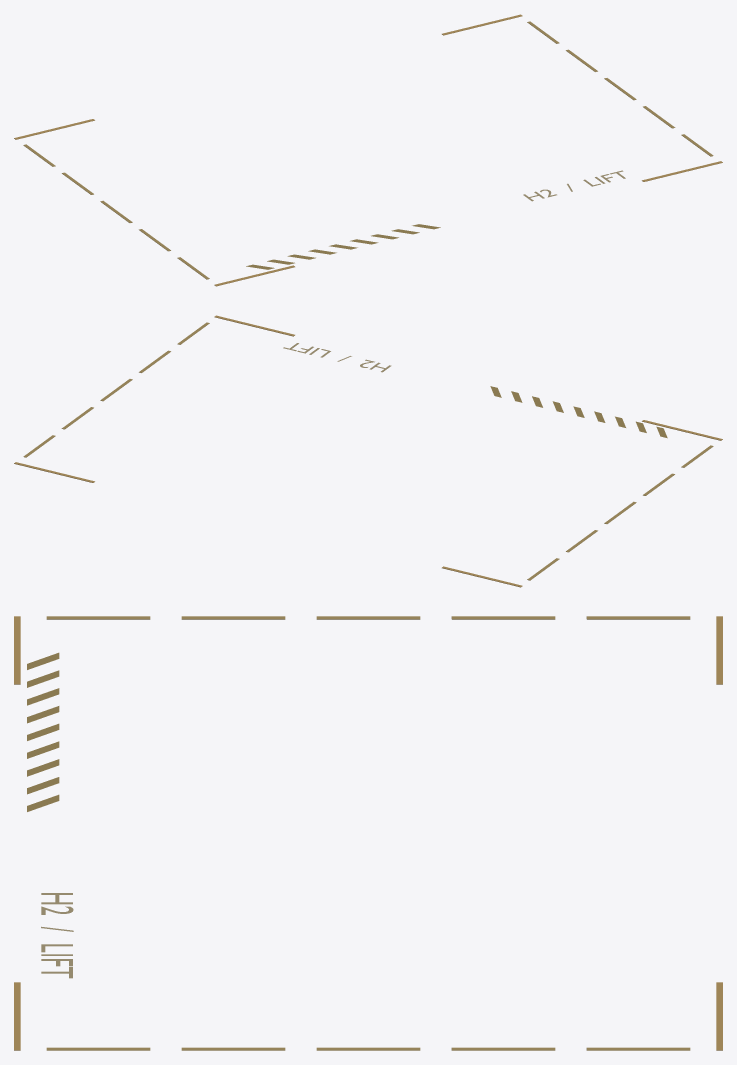
File: HG-06_lift_markings.glb
The picture shows the model from 3 angles, top to bottom: view 1: azimuth 30°, elevation 25°; view 2: azimuth 150°, elevation 25°; view 3: azimuth 270°, elevation 25°; orthographic projection. The views are drawn at different scales.
Parts seen in each view (by area): view 1: HG-06_lift_markings; view 2: HG-06_lift_markings; view 3: HG-06_lift_markings.
Boxes of the visible parts, x1,y1,x2,y2 form: HG-06_lift_markings: [14, 14, 722, 286]; HG-06_lift_markings: [14, 315, 722, 587]; HG-06_lift_markings: [14, 616, 722, 1050].
Size of the model in its own units: 13.68 by 0.012 by 9.45.
